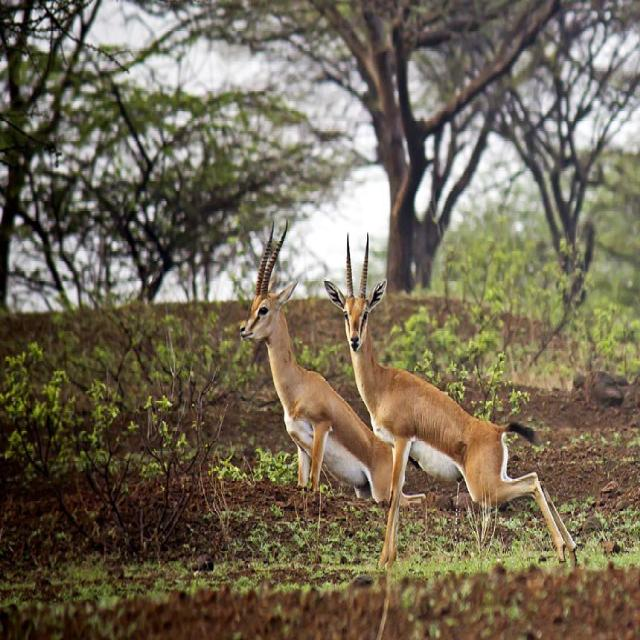Antelope: (325, 224, 574, 564), (238, 208, 424, 520)
